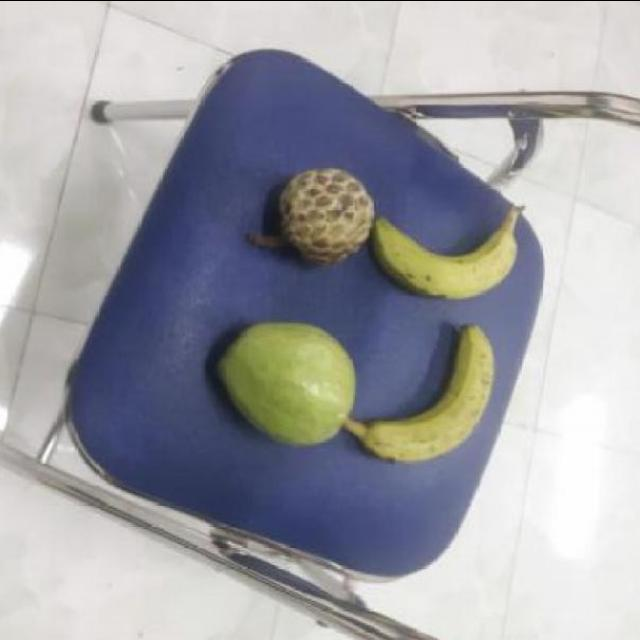banana: (362, 326, 496, 468), (375, 205, 521, 305)
guava: (220, 318, 352, 452)
sugar apple: (271, 164, 377, 270)
